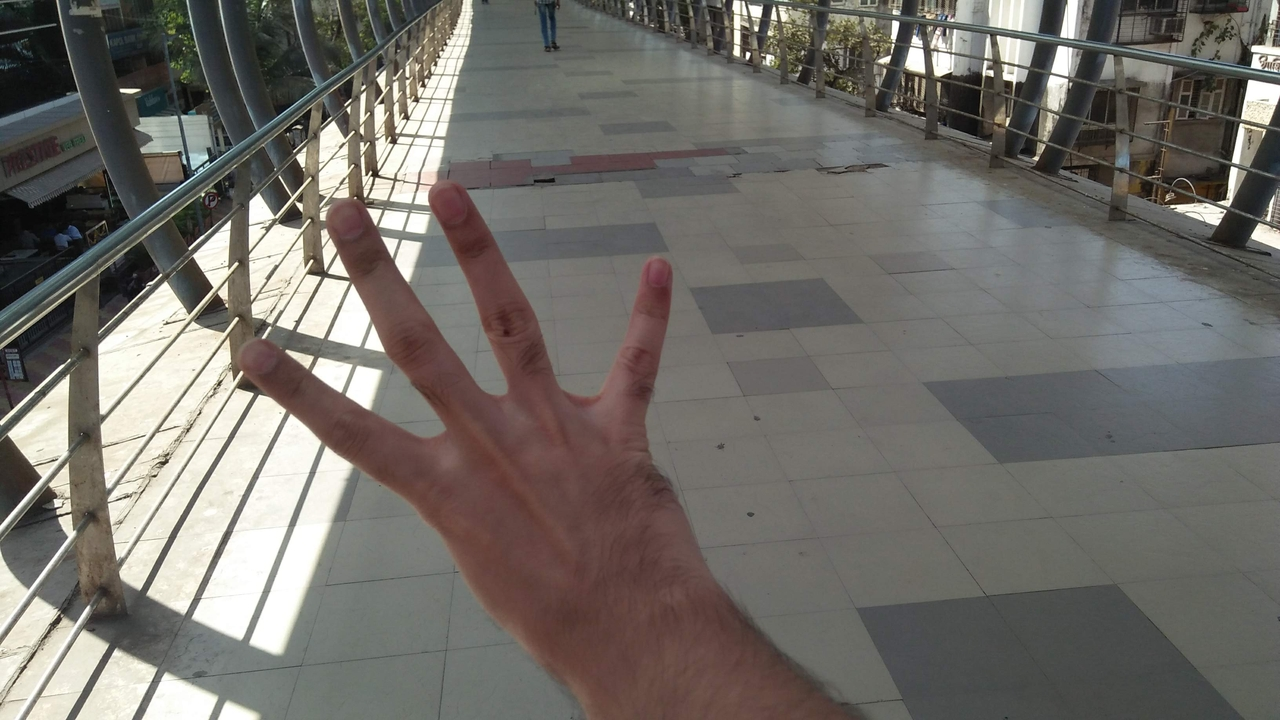fingertip: (318, 190, 376, 248), (228, 335, 278, 389), (420, 174, 472, 222), (630, 244, 678, 292)
